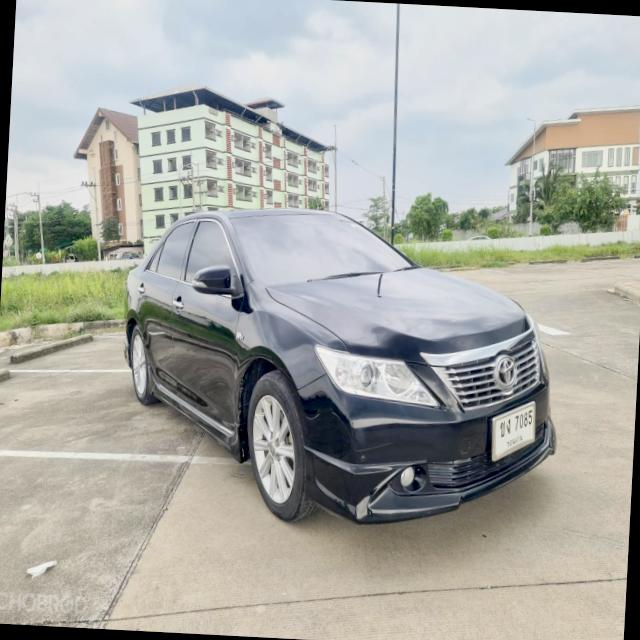license_plate: (486, 396, 541, 467)
